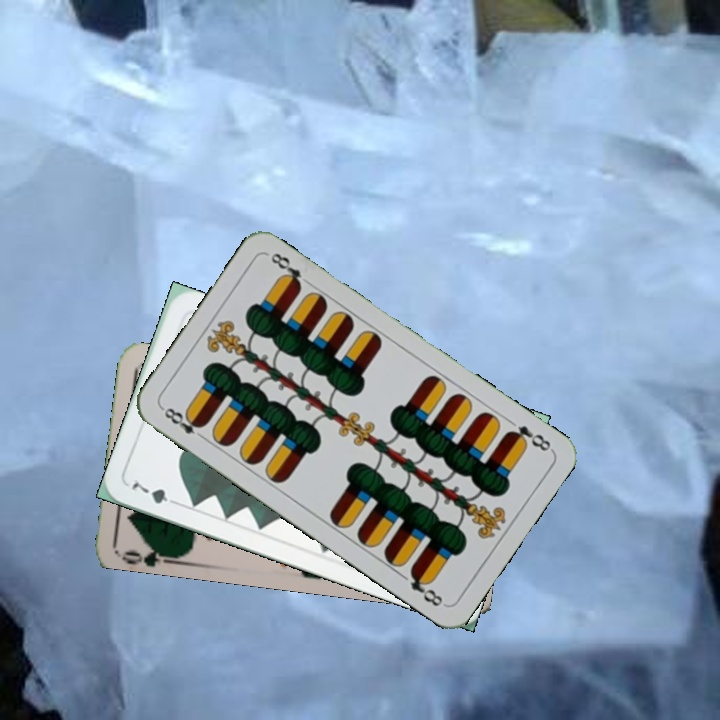E8: (158, 403, 209, 443), (502, 421, 555, 454)
G7: (127, 475, 183, 509)
GO: (118, 537, 178, 567)
